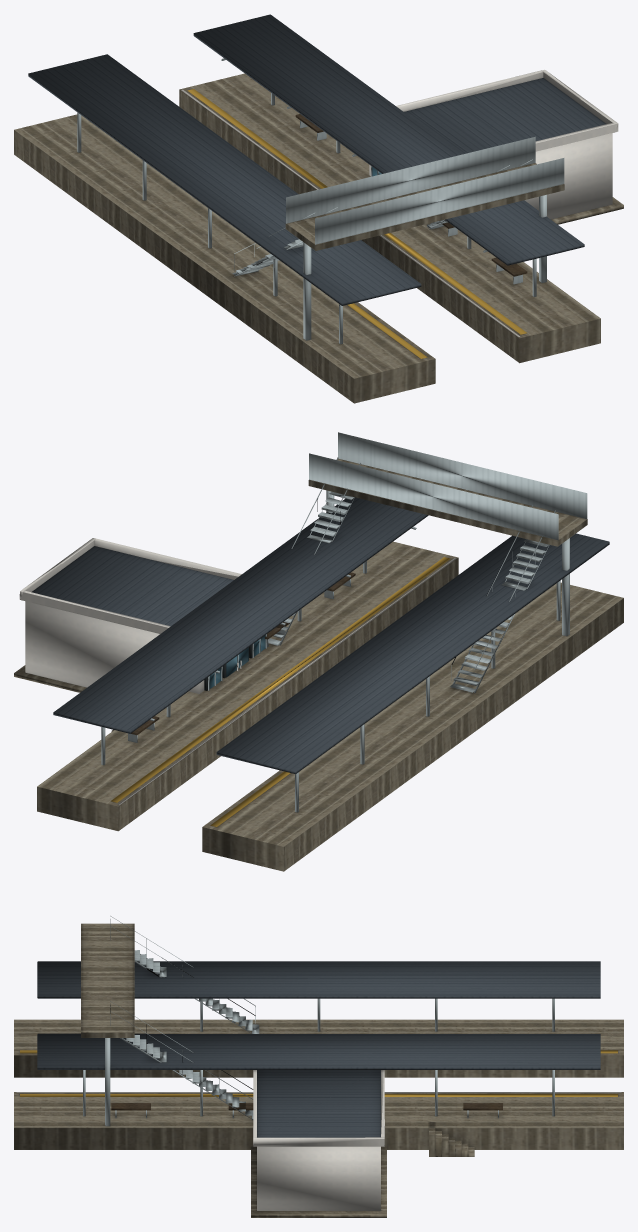
The model's file is station_002.lod1.obj.
3 renders of one model, top to bottom at view 1: azimuth 30°, elevation 25°; view 2: azimuth 150°, elevation 25°; view 3: azimuth 270°, elevation 25°, orthographic. The views are drawn at different scales.
Visible parts, largest first — view 1: station_002; view 2: station_002; view 3: station_002.
Boxes of the visible parts, x1,y1,x2,y2 form: station_002: (14, 14, 623, 403); station_002: (14, 432, 623, 871); station_002: (14, 916, 623, 1217).
Bounding box in the file's own units: 17.8 × 6.65 × 26.
Materials: 1 (1 with a texture image).
